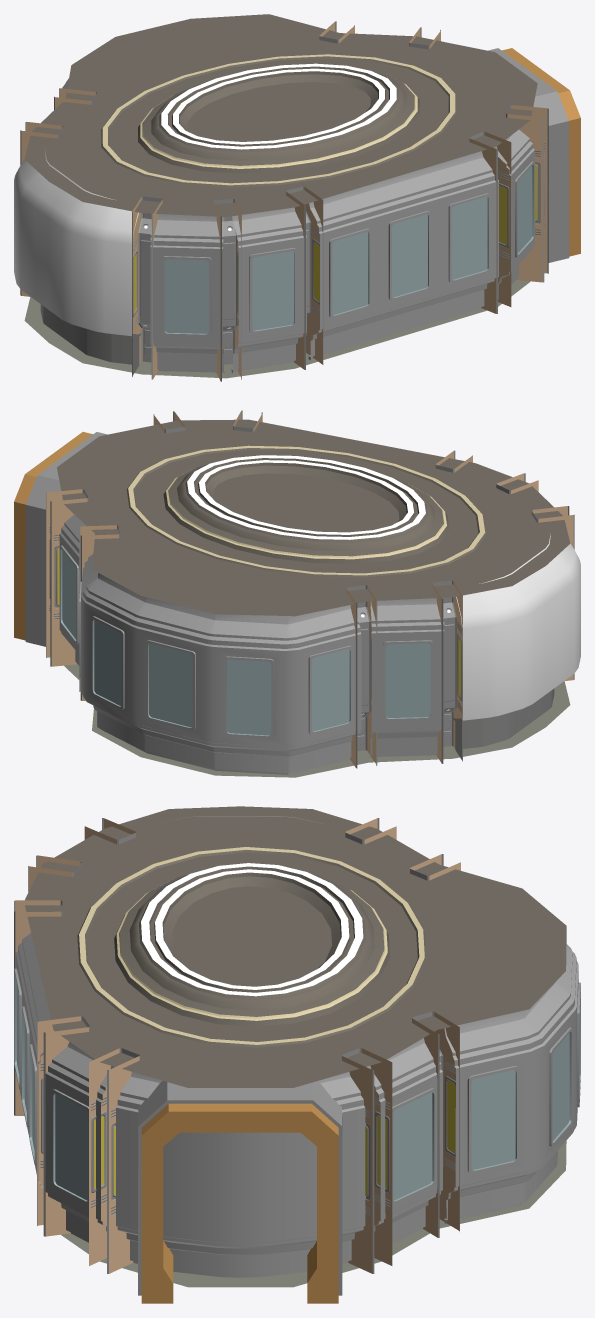
The model's file is Room_ControlRoom_A.fbx.
3 views of the same model, one above another, from view 1: azimuth 30°, elevation 25°; view 2: azimuth 150°, elevation 25°; view 3: azimuth 270°, elevation 25° (orthographic). The views are drawn at different scales.
Parts seen in each view (by area): view 1: ceiling, Door; view 2: ceiling, Door; view 3: ceiling, Door.
Boxes of the visible parts, bbox=[...] form: ceiling: bbox=[14, 14, 548, 381]; Door: bbox=[488, 48, 580, 262]; ceiling: bbox=[46, 410, 580, 777]; Door: bbox=[14, 432, 107, 646]; ceiling: bbox=[14, 806, 580, 1287]; Door: bbox=[138, 1081, 342, 1303].
Bounding box in the file's own units: 1190 × 404 × 947.
